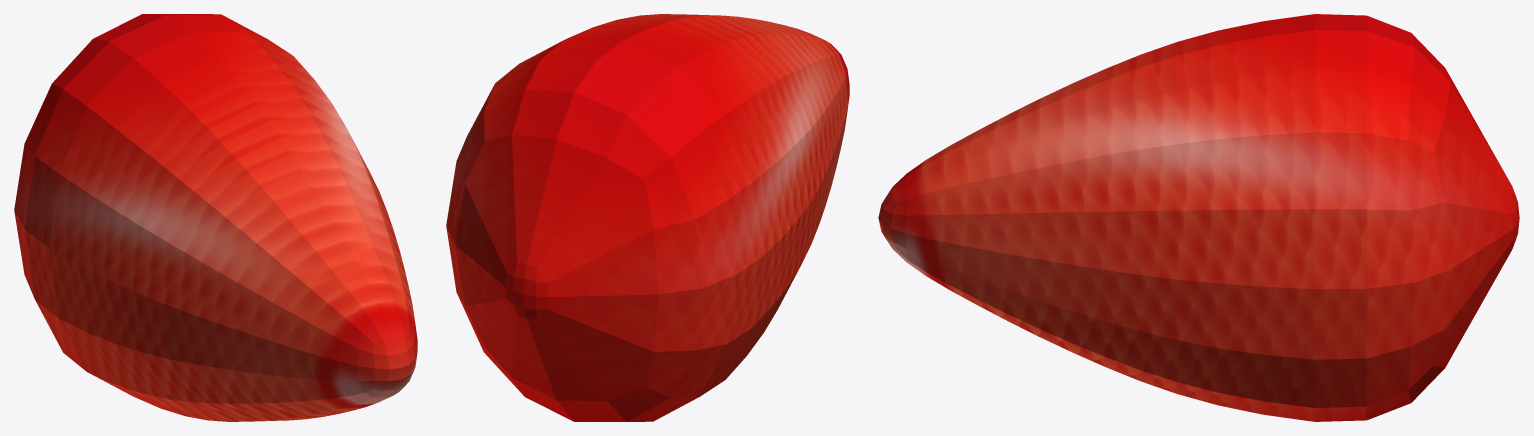
The model's file is Fish2_2_new1.dae.
3 renders of one model, left to right at view 1: azimuth 30°, elevation 25°; view 2: azimuth 150°, elevation 25°; view 3: azimuth 270°, elevation 25°, orthographic. The views are drawn at different scales.
Visible parts, largest first — view 1: Cube_Cube_001; view 2: Cube_Cube_001; view 3: Cube_Cube_001.
Boxes of the visible parts, box(x1,y1,x2,y2) form: Cube_Cube_001: box(14, 14, 417, 421); Cube_Cube_001: box(446, 14, 849, 421); Cube_Cube_001: box(878, 14, 1519, 421).
Size of the model in its own units: 1.51 by 2.87 by 1.86.
Materials: 1 (1 with a texture image).
